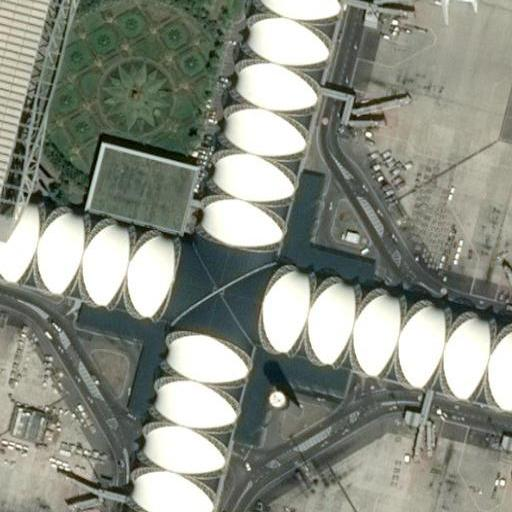Aircraft: (419, 0, 481, 21)
